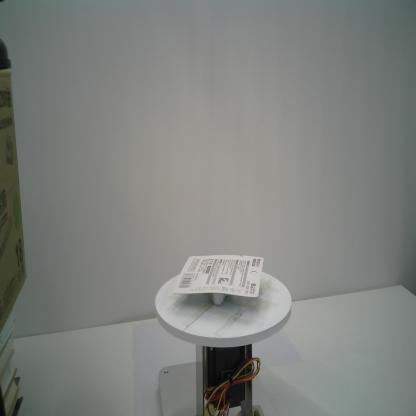Stationery: (172, 254, 264, 306)
